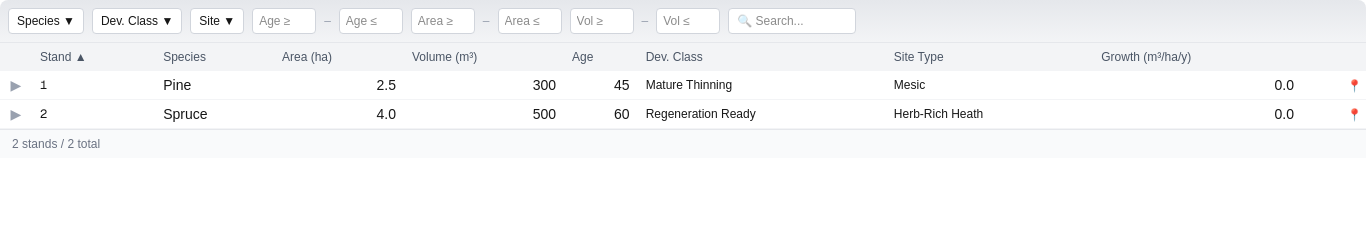
StandList › expands on chevron click
Click the button "▶" in the row of "Pine" at [16, 85], box [11,75,21,95]
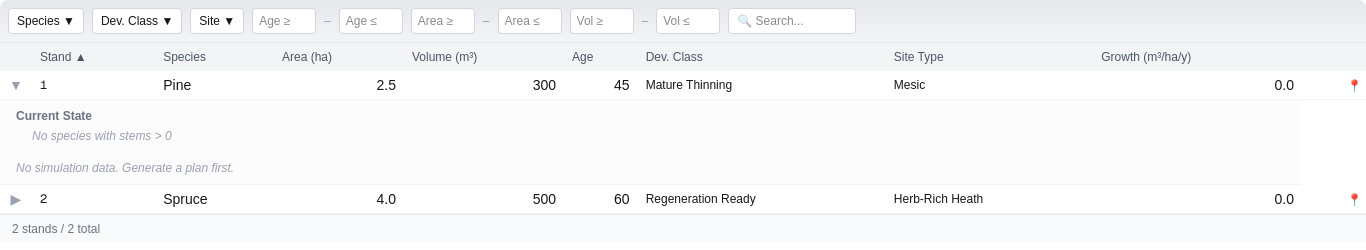
Check: the button "▼" is shown, box [9,75,23,95]
